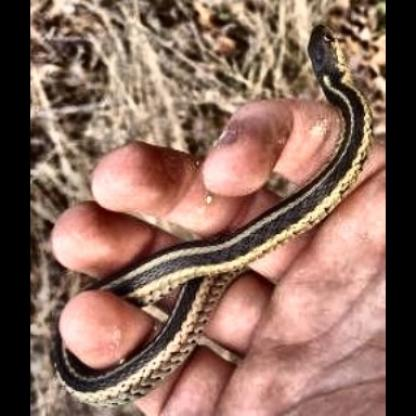Snake: (57, 22, 373, 398)
